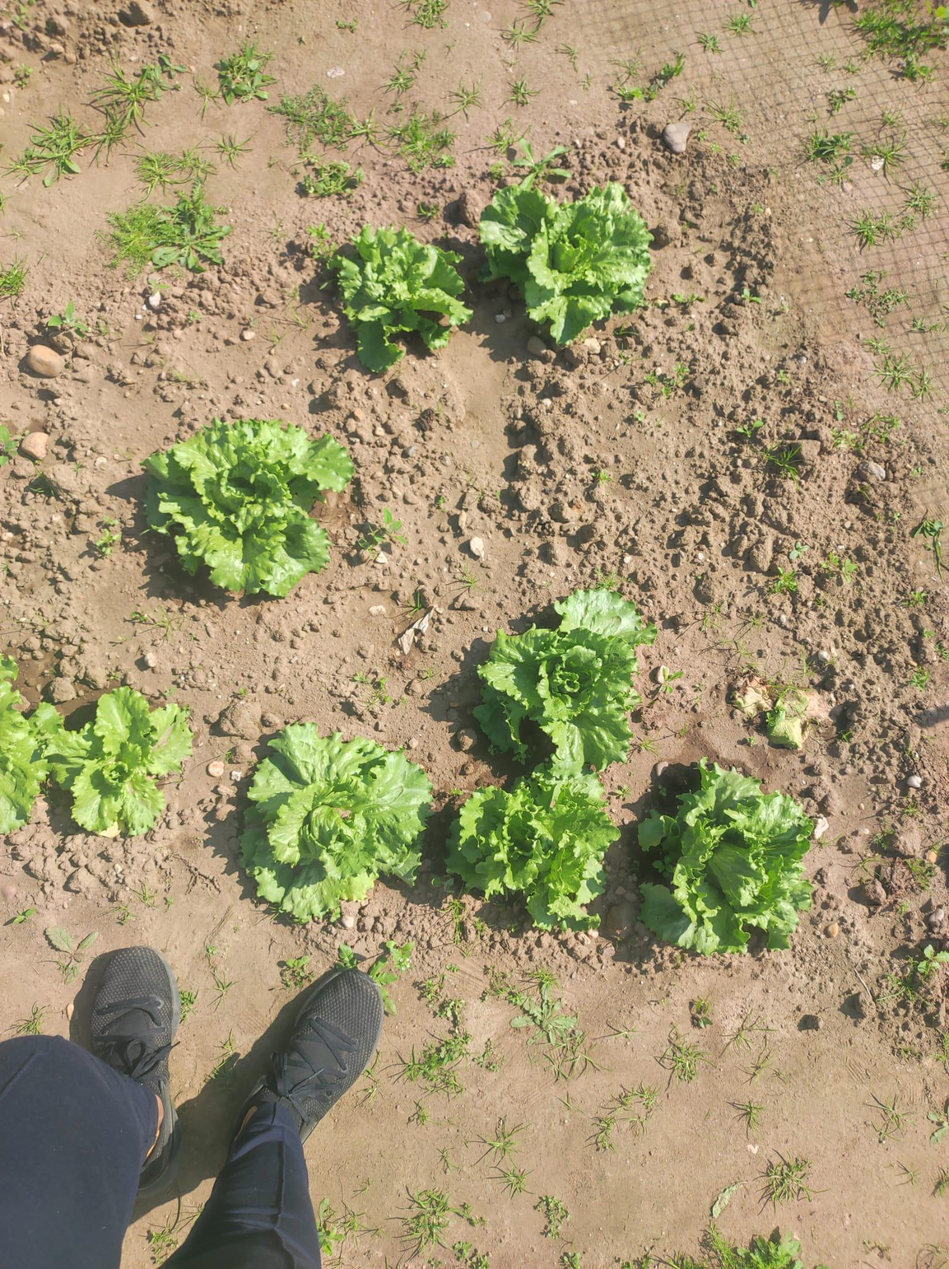Healthy: (239, 724, 432, 924), (141, 419, 353, 597), (474, 588, 657, 774), (639, 764, 813, 956), (479, 176, 652, 345), (445, 766, 620, 932), (46, 687, 191, 836), (338, 226, 472, 371), (0, 656, 46, 836)
